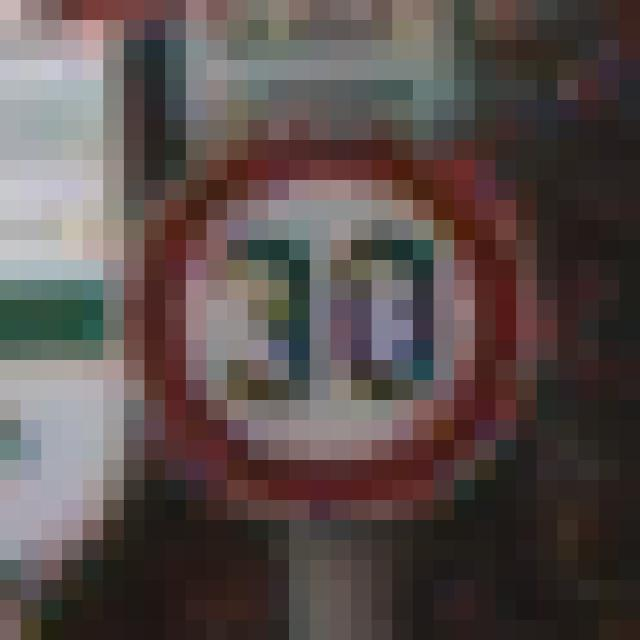Speed Limit -30-: (93, 110, 506, 530)
